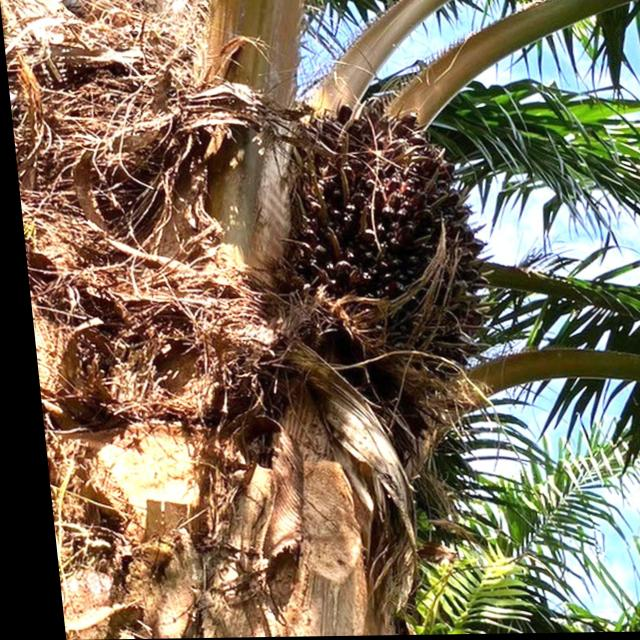ripe: (239, 88, 510, 411)
